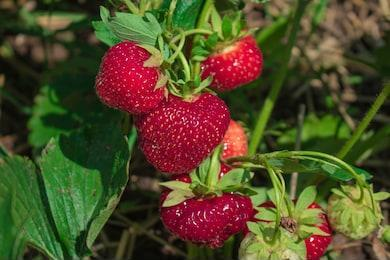Fresa: (131, 76, 235, 182), (155, 179, 259, 254), (89, 32, 170, 124), (197, 26, 269, 98)
